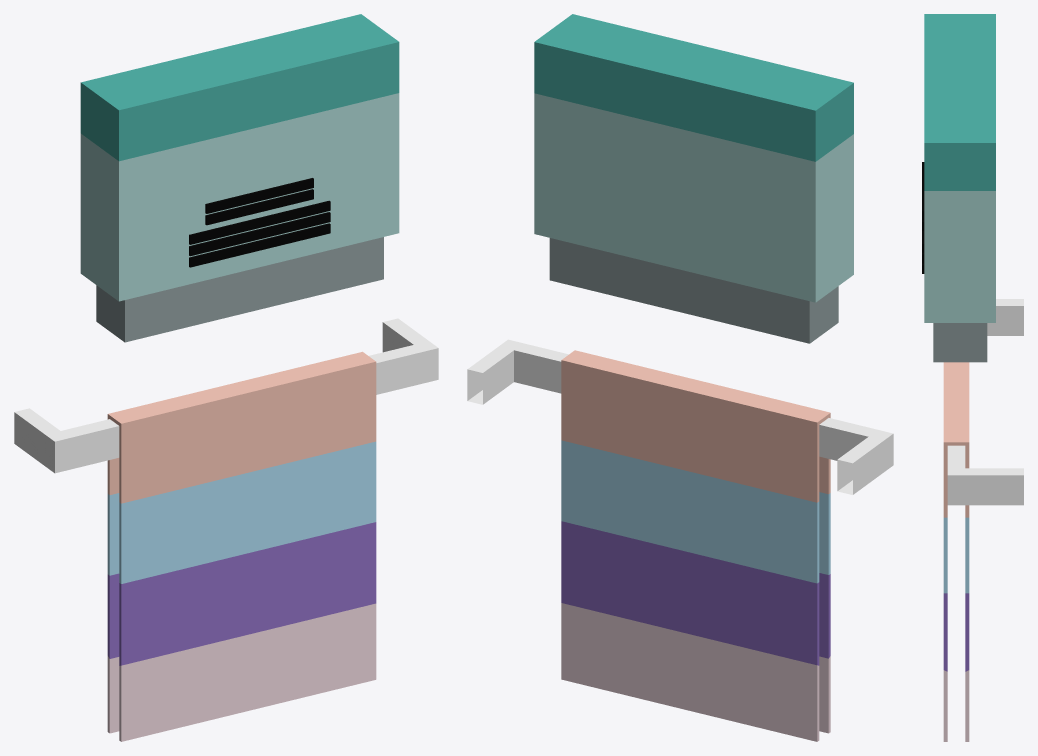
The model's file is MXC_WC_HandsDryer_lv4.fbx.
The picture shows the model from 3 angles, left to right: view 1: azimuth 30°, elevation 25°; view 2: azimuth 150°, elevation 25°; view 3: azimuth 270°, elevation 25°; orthographic projection. The views are drawn at different scales.
Visible parts, largest first — view 1: MXC_WC_HandsDryer_lv4; view 2: MXC_WC_HandsDryer_lv4; view 3: MXC_WC_HandsDryer_lv4.
Boxes of the visible parts, x1,y1,x2,y2 form: MXC_WC_HandsDryer_lv4: [14, 14, 438, 741]; MXC_WC_HandsDryer_lv4: [467, 14, 893, 741]; MXC_WC_HandsDryer_lv4: [922, 14, 1023, 741].
Bounding box in the file's own units: 104 × 167 × 25.49.
